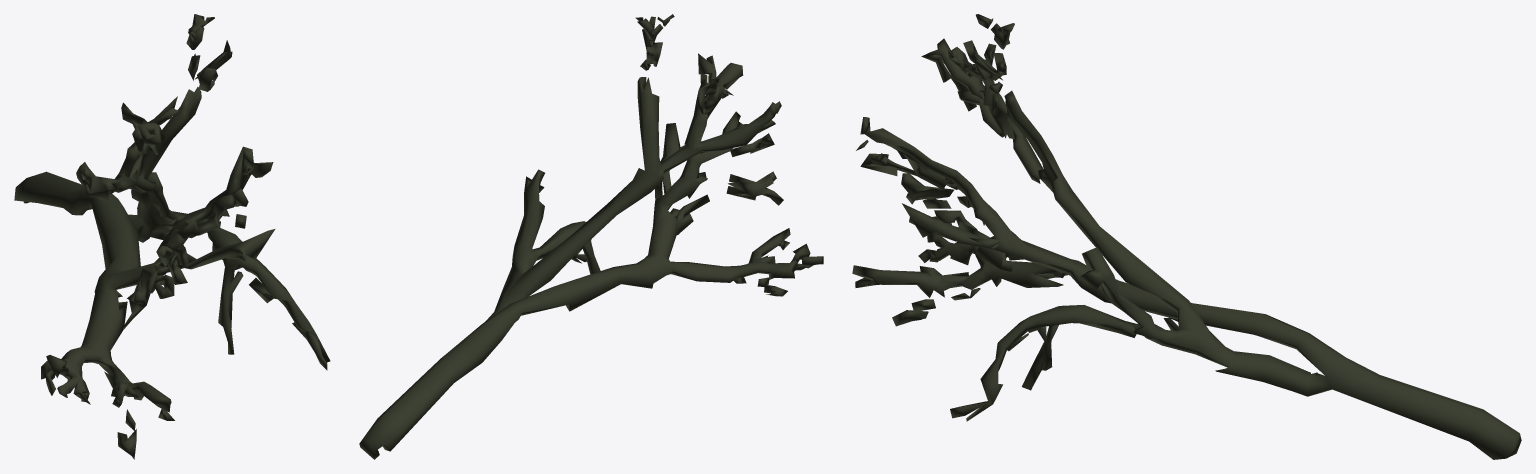
Rendered from GWood_06_Moss_Detail.fbx.
3 views of the same model, side by side, from view 1: azimuth 30°, elevation 25°; view 2: azimuth 150°, elevation 25°; view 3: azimuth 270°, elevation 25° (orthographic). The views are drawn at different scales.
Visible parts, largest first — view 1: GWood_06_Moss_Detail; view 2: GWood_06_Moss_Detail; view 3: GWood_06_Moss_Detail.
Part boxes in pixels (<box>): GWood_06_Moss_Detail: <box>14,14,330,459</box>; GWood_06_Moss_Detail: <box>359,14,823,459</box>; GWood_06_Moss_Detail: <box>852,14,1521,459</box>.
Size of the model in its own units: 116 by 146 by 228.
